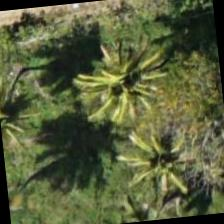Kelapa_Sawit: (107, 120, 206, 219), (81, 27, 180, 126), (0, 72, 53, 167), (4, 147, 68, 223)
